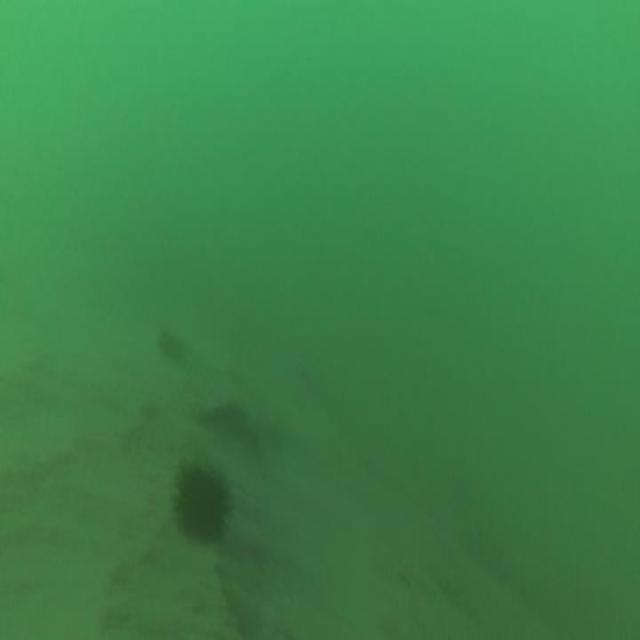echinus: (175, 464, 226, 540)
